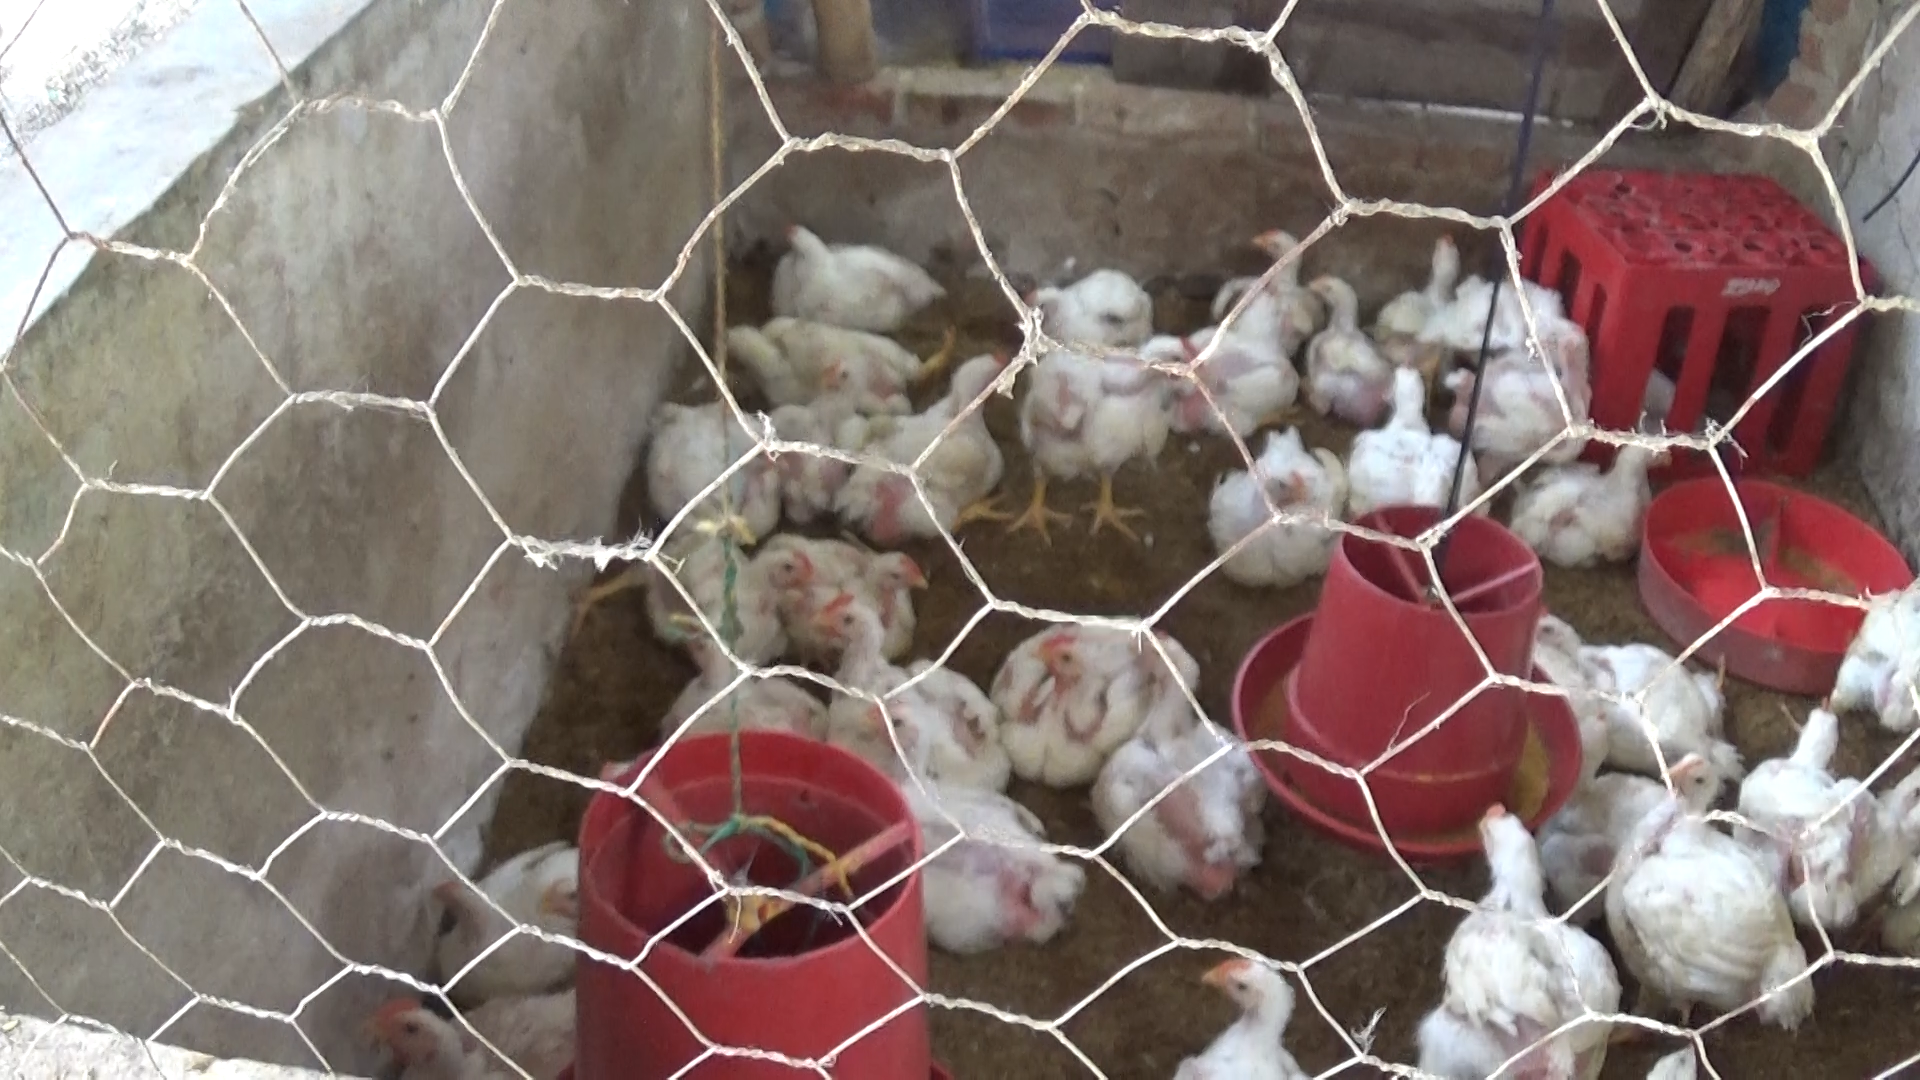Pollos: (847, 676, 1076, 957), (1427, 796, 1631, 1072), (1629, 737, 1812, 1040), (1026, 318, 1196, 549), (804, 582, 1006, 775), (390, 823, 611, 982), (1771, 667, 1920, 902), (1098, 709, 1275, 899), (847, 338, 1019, 531), (326, 959, 597, 1080), (1520, 593, 1717, 753), (997, 611, 1180, 773), (616, 377, 804, 516), (1149, 943, 1335, 1080), (1191, 425, 1341, 585), (748, 208, 940, 332), (671, 531, 829, 674), (1336, 368, 1490, 513), (777, 524, 938, 646), (1528, 427, 1676, 556), (1472, 307, 1601, 448), (1153, 277, 1280, 415), (1300, 268, 1400, 425), (1225, 222, 1332, 349), (1015, 268, 1164, 352), (1391, 232, 1477, 345)
